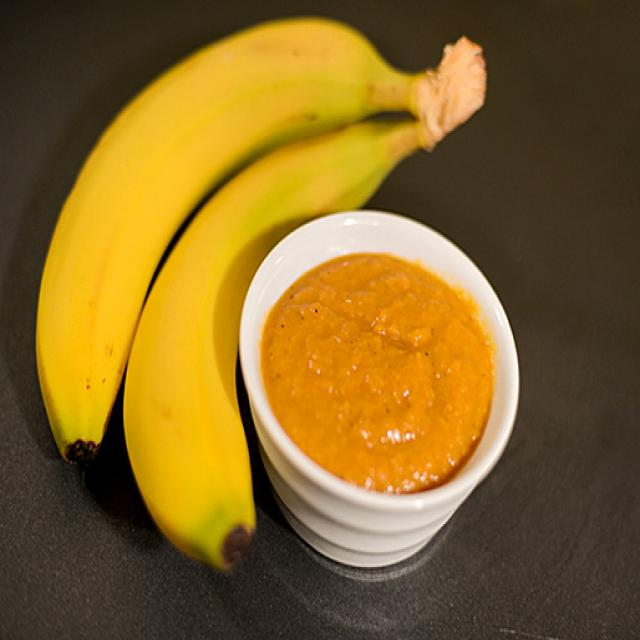banana: (39, 17, 414, 559)
